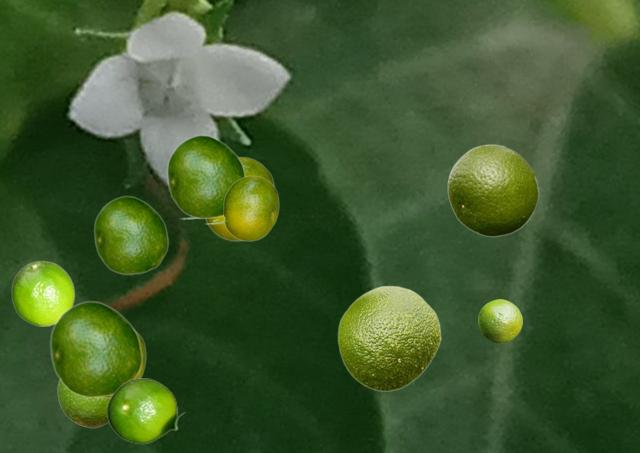calamansi: (337, 285, 440, 391), (49, 300, 142, 397), (447, 143, 538, 236), (179, 156, 274, 240), (166, 134, 246, 218), (93, 195, 168, 274), (106, 378, 185, 443), (204, 175, 278, 240), (11, 260, 74, 325), (57, 380, 108, 427), (109, 331, 145, 397), (478, 299, 521, 342)
